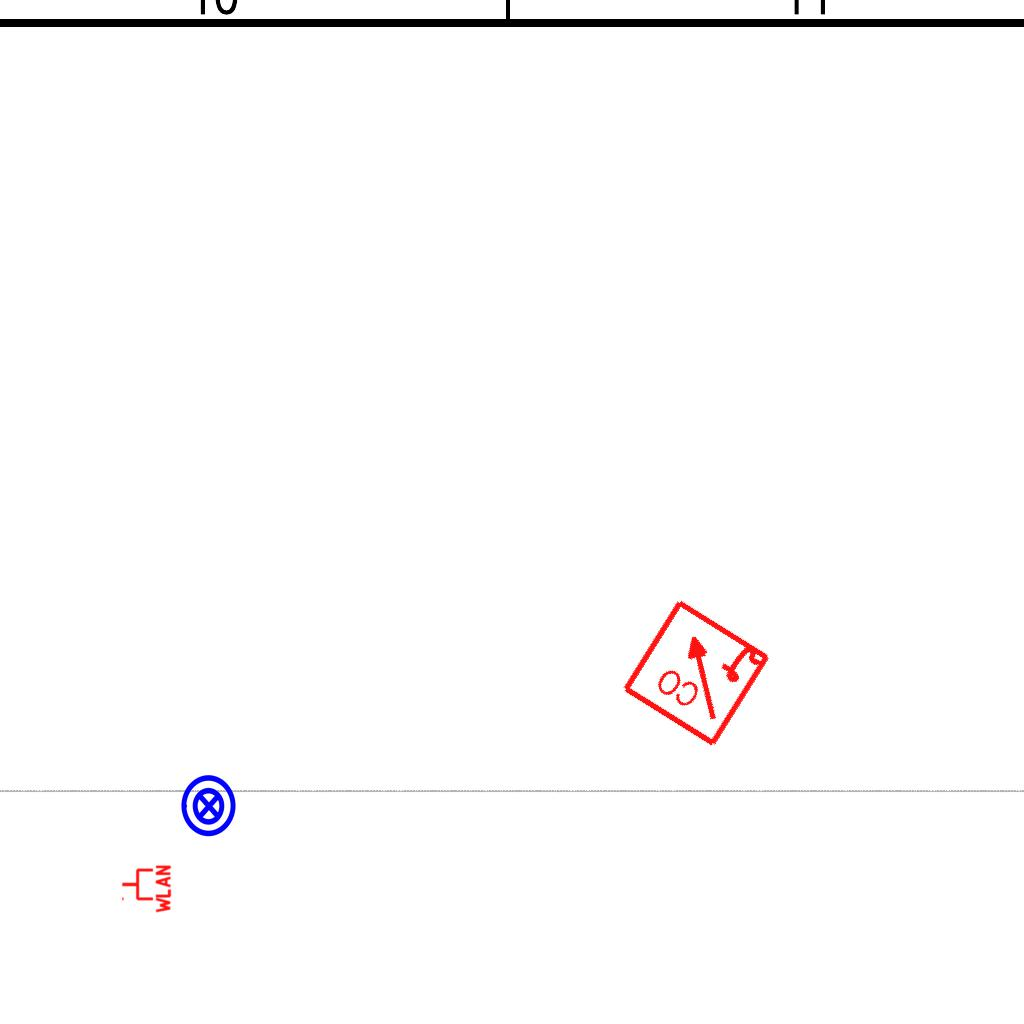ROA_Rauchmelder_optisch_mit_Signalgeber_(Sockelsirene): (618, 593, 775, 750)
Taster_beleuchtet: (176, 773, 242, 839)
WLAN: (120, 863, 172, 915)
